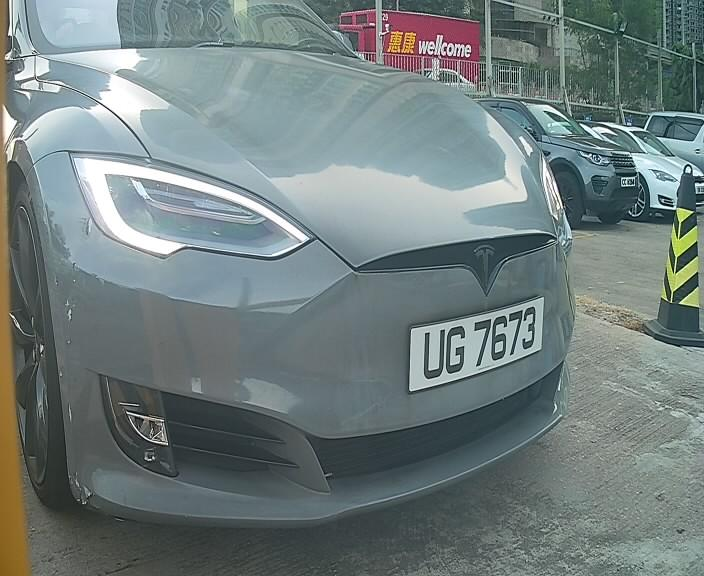License Plate: (393, 296, 551, 391)
